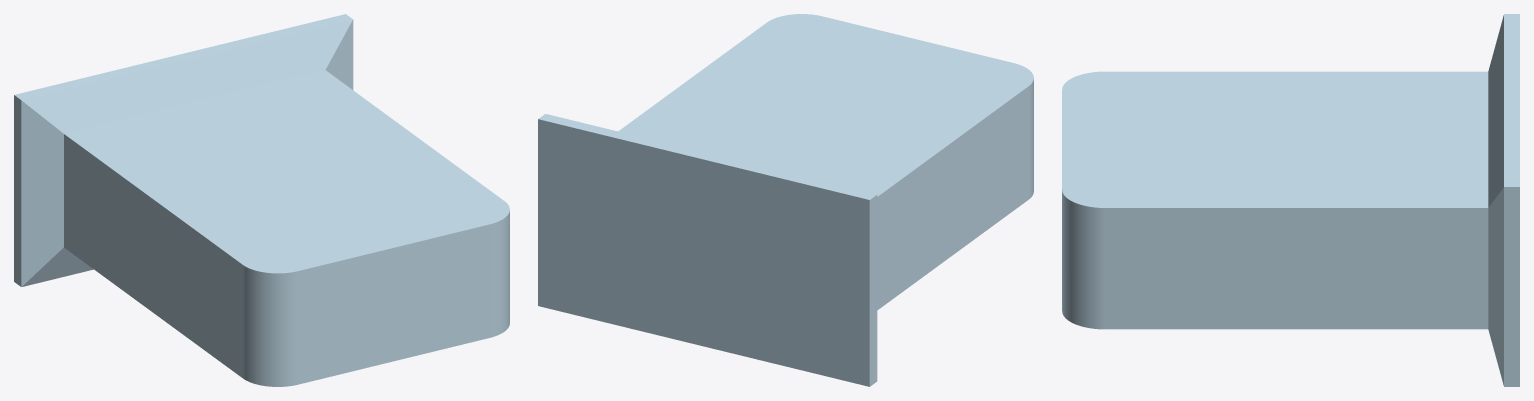
The picture shows the model from 3 angles, left to right: view 1: azimuth 30°, elevation 25°; view 2: azimuth 150°, elevation 25°; view 3: azimuth 270°, elevation 25°; orthographic projection. The views are drawn at different scales.
Parts seen in each view (by area): view 1: PA-539-F_LOD0; view 2: PA-539-F_LOD0; view 3: PA-539-F_LOD0.
Boxes of the visible parts, box(x1,y1,x2,y2) form: PA-539-F_LOD0: box(14, 14, 509, 386); PA-539-F_LOD0: box(538, 14, 1033, 386); PA-539-F_LOD0: box(1062, 14, 1519, 386).
Size of what is drawn, in the model's own units: 72.64 by 39.12 by 81.17.
